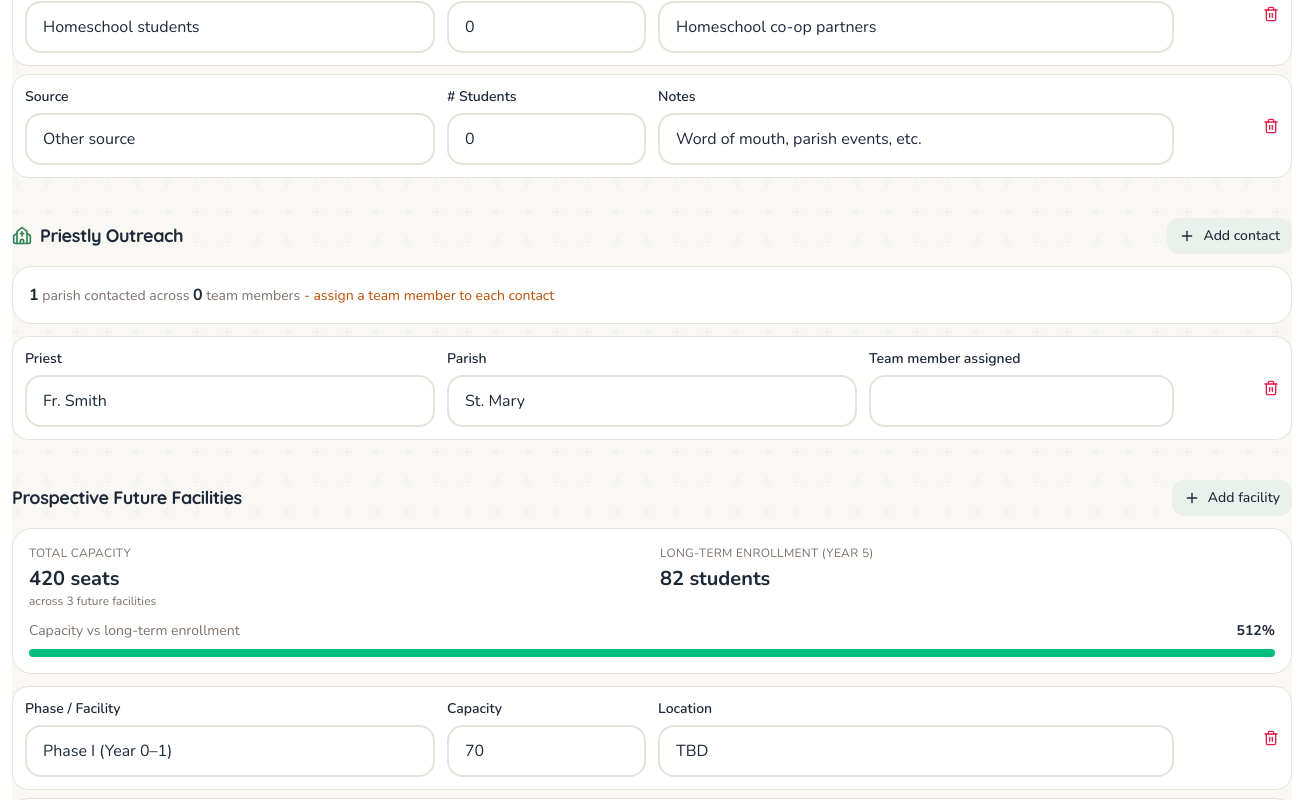
Scenario: Chesterton wizard step summaries › recruiting step priestly card updates live as the founder fills in a contact
(page scrolled)
Expected: the text with test id "chesterton-priestly-contact-count" reads "1", [29,284,39,306]
Expected: the text with test id "chesterton-priestly-team-count" reads "0", [193,284,203,306]
Type "Alice" into the field labelled "Team member assigned".
click(1021, 400); type("Alice")  # box [869,374,1174,426]
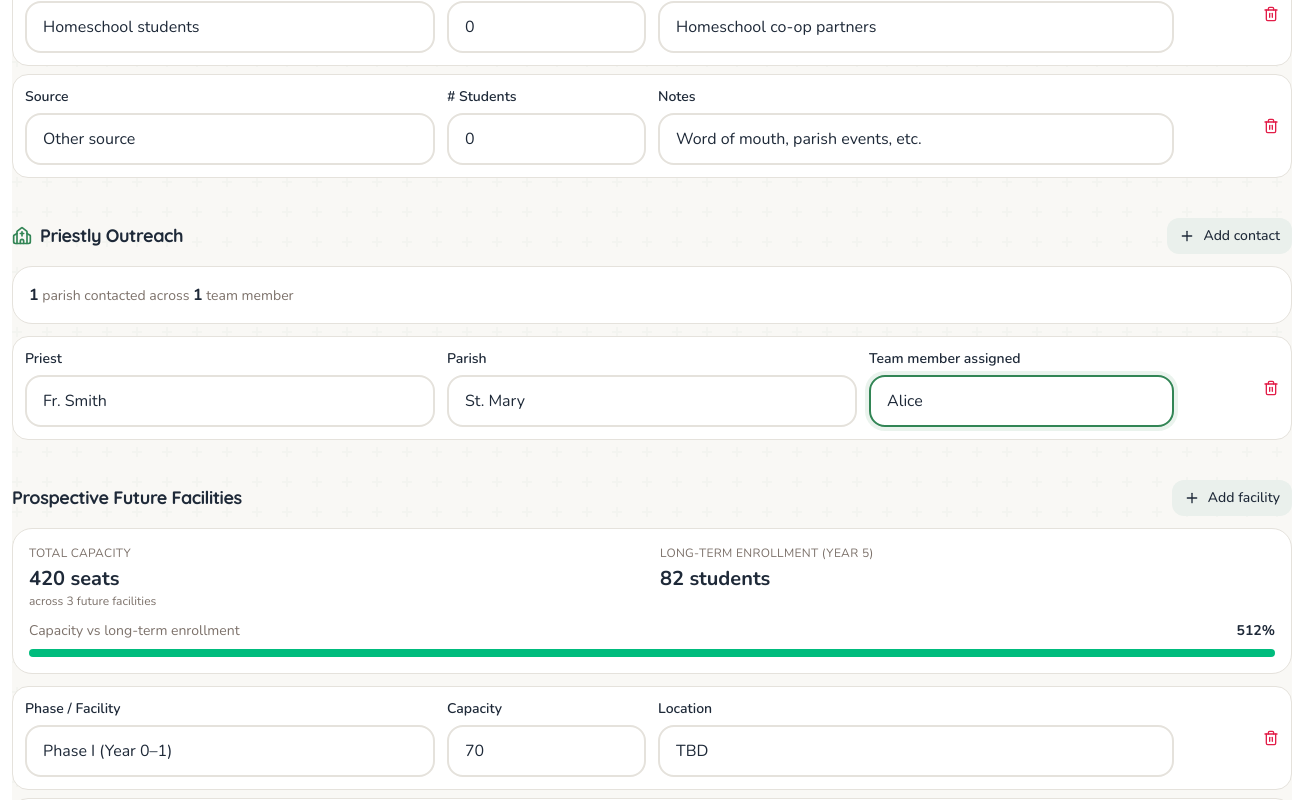
Now the text with test id "chesterton-priestly-team-count" reads "1", box [193,284,203,306]
Now the element with test id "chesterton-priestly-summary" no longer shows "assign a team member", box [12,266,1292,324]
